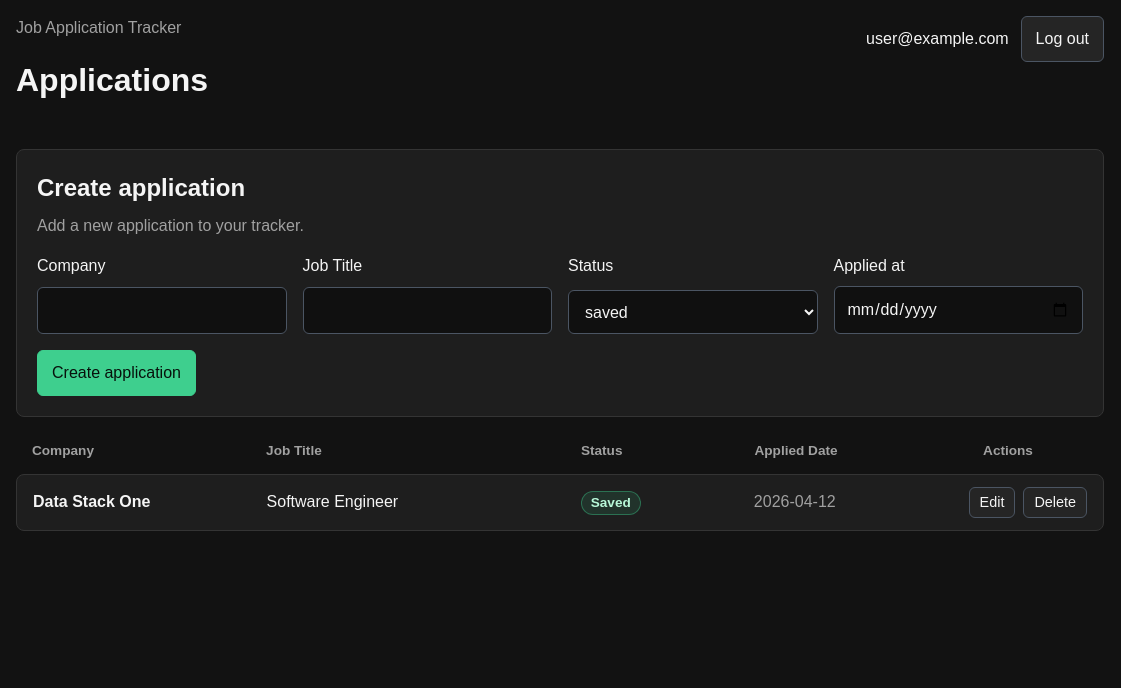
it: ApplicationsPage update flow › reloads the applications list after a successful update
Click the button "Edit" at x=992, y=502, box [969, 487, 1015, 518]
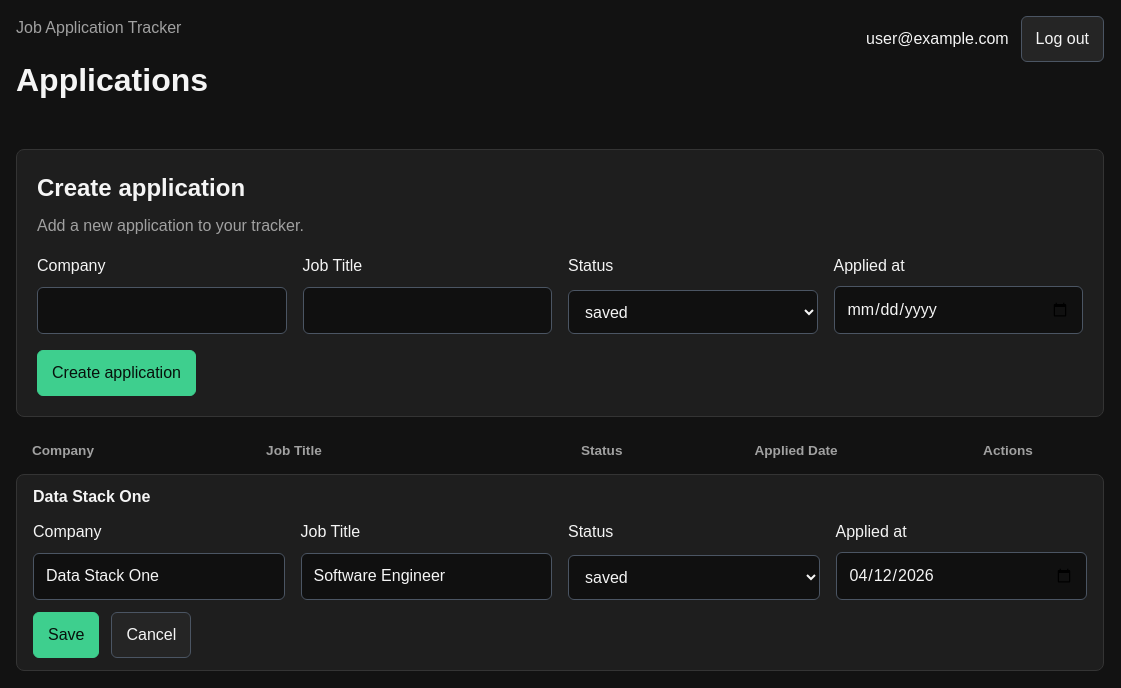
Replace the text in the field labelled "Company" below "Data Stack One" with "Acme Labs" at x=159, y=576, box [33, 553, 284, 600]
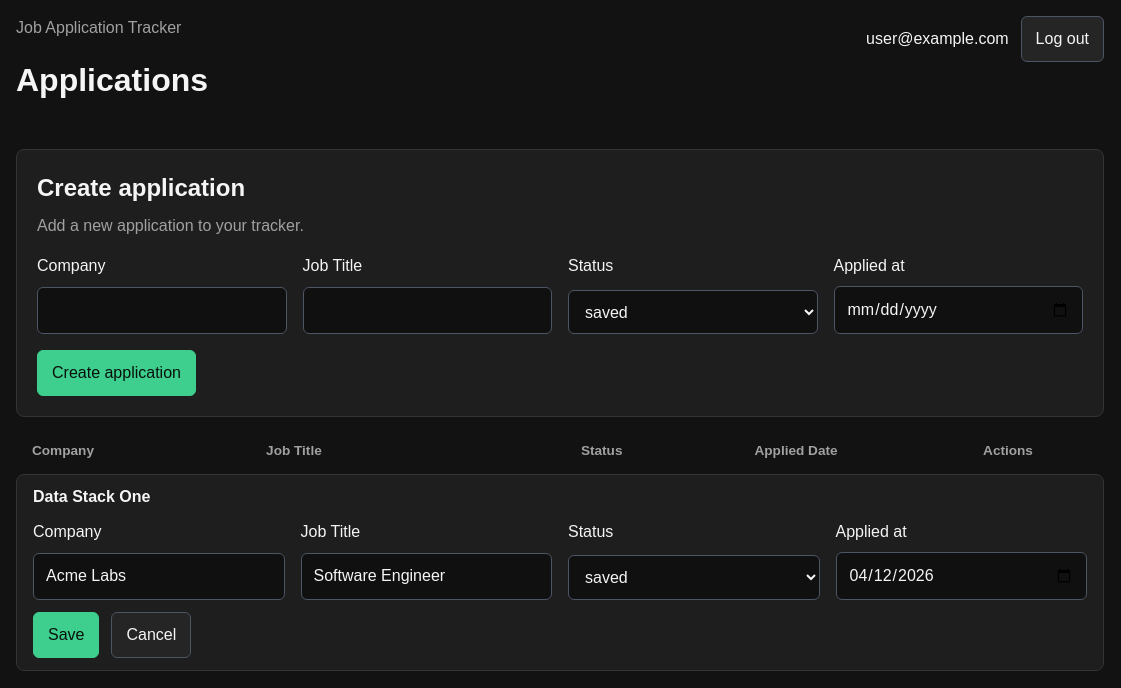
Select "interviewing" in the dropdown labelled "Status" below "Applied Date" at x=694, y=577, box [568, 555, 820, 600]
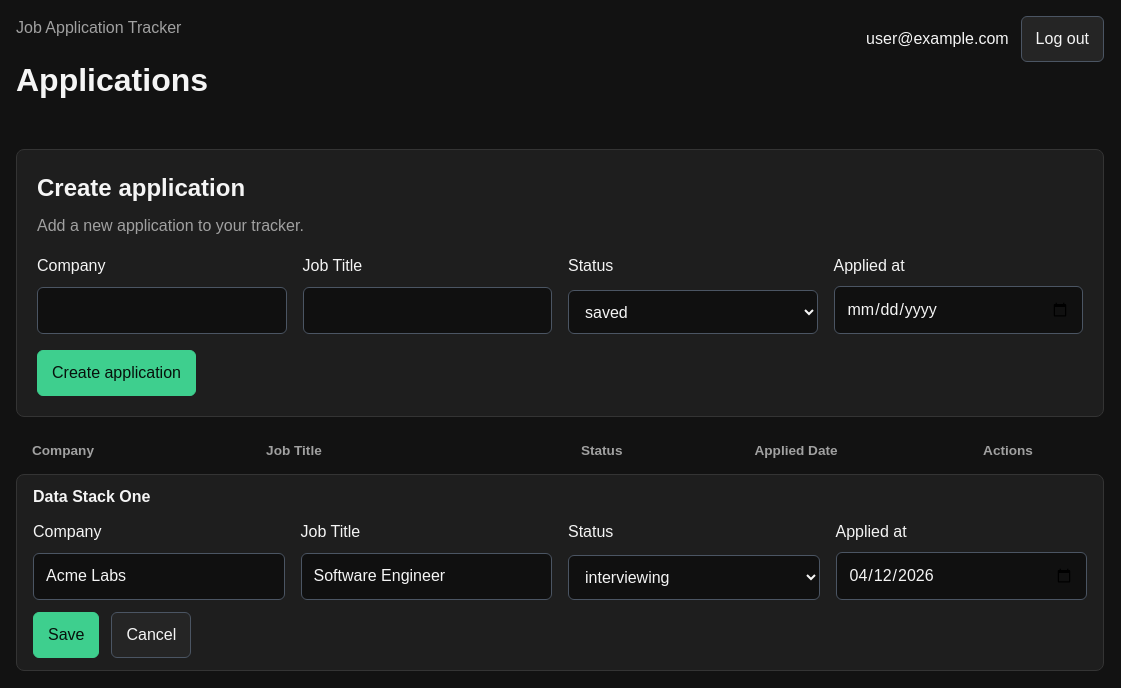
Click the button "Save" at x=66, y=635, box [33, 612, 100, 658]
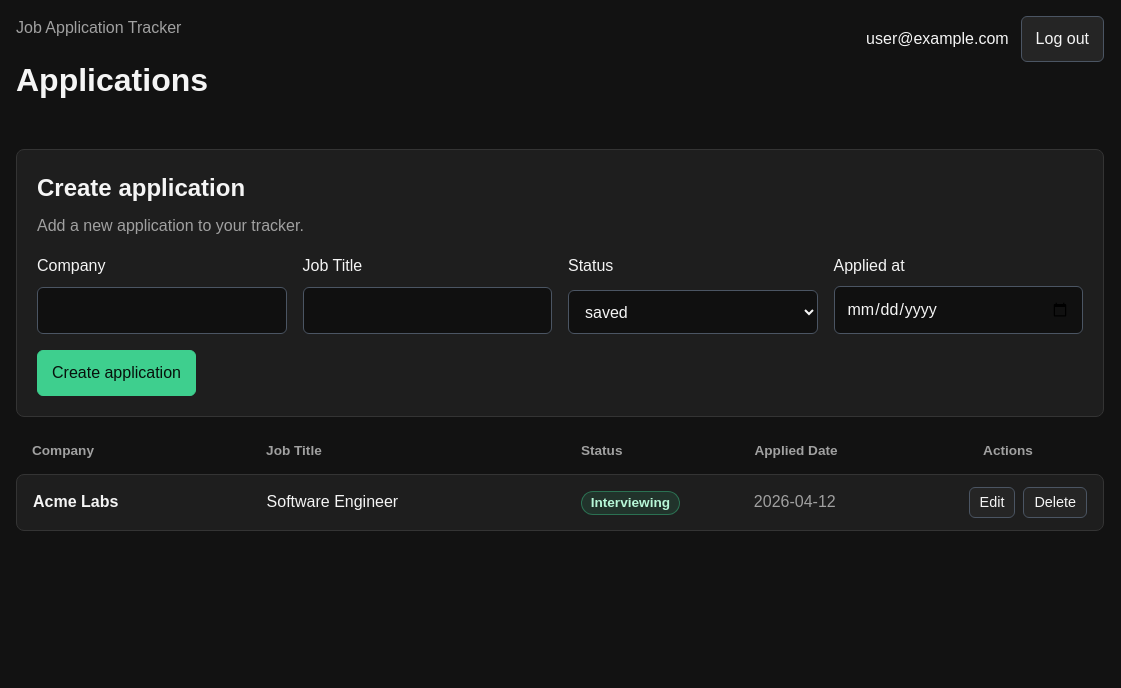
Now the text "interviewing" is shown, box [581, 491, 680, 515]
